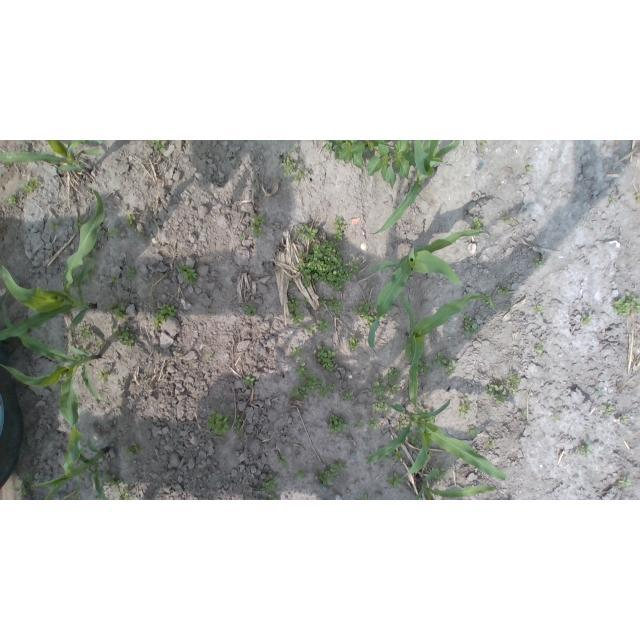Maize: (1, 294, 106, 475), (0, 189, 106, 344), (367, 230, 485, 349), (366, 400, 507, 481), (398, 291, 495, 407), (372, 140, 460, 233), (33, 440, 110, 500), (0, 140, 104, 173), (415, 469, 500, 500)
Weeds: (303, 239, 352, 292), (366, 141, 411, 190), (332, 141, 364, 170), (612, 291, 640, 317), (354, 300, 377, 329), (320, 460, 345, 485), (432, 351, 455, 377), (287, 294, 305, 327), (153, 304, 177, 328), (316, 344, 336, 372), (207, 412, 230, 436), (305, 373, 328, 397), (112, 327, 135, 349), (104, 298, 125, 322), (328, 411, 349, 435), (248, 212, 266, 239), (178, 262, 200, 284), (485, 384, 507, 404), (20, 176, 43, 195), (103, 466, 122, 487), (296, 224, 318, 242), (280, 153, 296, 176), (372, 396, 391, 415), (386, 472, 406, 490), (288, 384, 309, 400), (506, 374, 521, 396), (260, 474, 278, 492), (458, 397, 473, 418), (332, 216, 344, 242), (463, 316, 477, 337), (232, 415, 244, 439), (296, 362, 309, 383), (328, 297, 343, 314), (616, 475, 632, 490), (78, 327, 94, 342), (124, 443, 144, 455), (148, 141, 166, 154), (417, 358, 431, 374), (579, 442, 593, 457), (126, 214, 137, 233), (535, 341, 548, 357), (373, 380, 386, 396), (484, 294, 497, 310), (243, 372, 256, 388), (366, 417, 380, 431), (116, 488, 132, 500), (386, 368, 400, 381), (15, 484, 29, 497), (244, 303, 257, 317), (316, 319, 329, 333), (495, 285, 511, 296), (102, 228, 121, 237), (471, 217, 484, 230), (349, 335, 359, 351), (601, 405, 615, 416), (349, 261, 360, 275), (277, 454, 287, 469), (533, 257, 548, 267), (23, 472, 35, 484), (292, 346, 303, 359), (467, 426, 479, 437), (396, 420, 407, 432), (389, 384, 400, 396), (295, 171, 308, 181), (411, 436, 421, 449), (393, 451, 404, 462), (72, 270, 79, 287), (422, 417, 435, 426), (98, 370, 109, 380), (435, 468, 445, 479), (581, 314, 591, 325), (501, 212, 511, 223), (75, 217, 84, 229), (327, 383, 337, 393), (140, 231, 149, 242), (297, 262, 306, 273), (533, 305, 544, 314), (84, 273, 96, 281), (126, 268, 136, 277), (620, 416, 630, 425), (488, 440, 497, 450), (343, 392, 353, 401), (415, 405, 426, 413), (361, 493, 373, 500), (8, 196, 17, 205), (306, 324, 315, 333), (355, 420, 364, 429), (97, 341, 107, 349), (49, 220, 59, 228), (296, 470, 304, 479), (90, 258, 96, 270), (324, 141, 332, 149), (479, 140, 487, 148), (288, 279, 296, 287), (382, 452, 390, 460), (61, 268, 66, 280), (299, 251, 306, 259), (85, 468, 92, 476), (319, 301, 327, 308), (267, 495, 277, 500), (609, 196, 616, 203), (595, 389, 603, 395), (379, 313, 385, 320), (111, 276, 118, 282), (82, 255, 89, 261), (91, 247, 97, 254), (521, 411, 527, 418), (556, 412, 561, 420), (471, 446, 477, 452), (636, 194, 640, 203), (76, 485, 81, 492), (20, 148, 28, 152), (208, 354, 213, 360), (294, 142, 299, 148), (504, 304, 509, 309), (240, 236, 245, 241), (96, 495, 101, 500), (400, 416, 405, 421), (525, 167, 530, 172), (304, 298, 308, 304)
